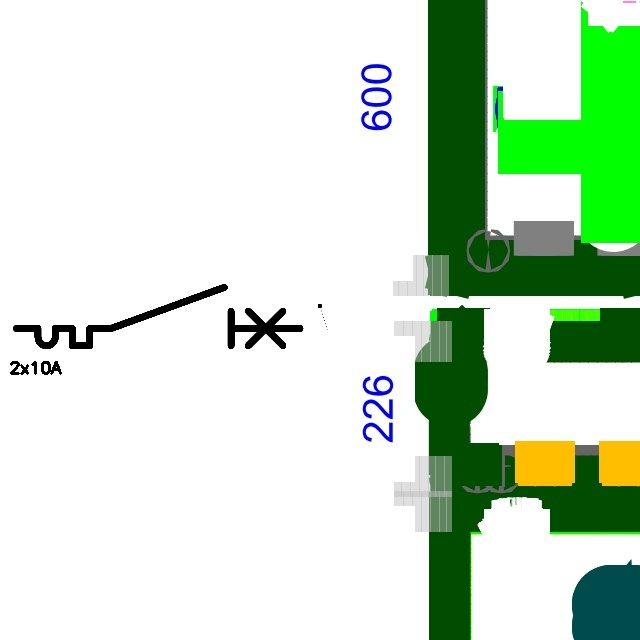interruptor_termomagnetico: (9, 280, 307, 353)
